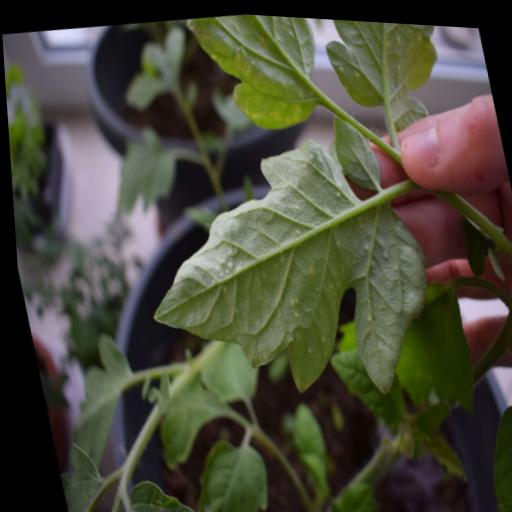Leaf Mold: (113, 117, 439, 421), (178, 8, 331, 141), (313, 15, 461, 110)
